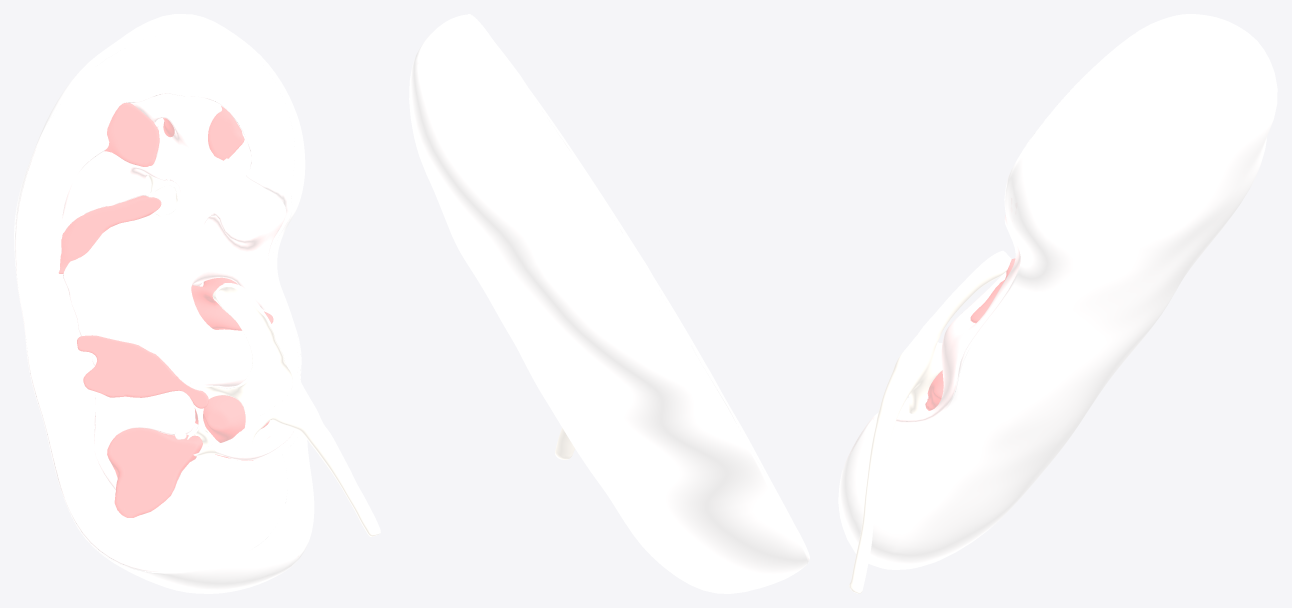
The model's file is VHM_Kidney_R_Bisect_Posterior.glb.
The picture shows the model from 3 angles, left to right: view 1: azimuth 30°, elevation 25°; view 2: azimuth 150°, elevation 25°; view 3: azimuth 270°, elevation 25°; orthographic projection. The views are drawn at different scales.
Parts seen in each view (by area): view 1: VHM_Kidney_R_OuterCortex_Posterior, VHM_Kidney_R_RenalColumns_Posterior, VHM_Kidney_R_Pyramids_Posterior, VHM_Kidney_R_Capsule_Posterior, VHM_Kidney_R_Calyses_Posterior; view 2: VHM_Kidney_R_Capsule_Posterior, VHM_Kidney_R_OuterCortex_Posterior; view 3: VHM_Kidney_R_Capsule_Posterior, VHM_Kidney_R_Calyses_Posterior, VHM_Kidney_R_RenalColumns_Posterior, VHM_Kidney_R_Pyramids_Posterior, VHM_Kidney_R_OuterCortex_Posterior.
Part boxes in pixels (x1,y1,x2,y2): VHM_Kidney_R_OuterCortex_Posterior: (15, 26, 302, 593); VHM_Kidney_R_RenalColumns_Posterior: (60, 94, 298, 490); VHM_Kidney_R_Pyramids_Posterior: (58, 102, 273, 517); VHM_Kidney_R_Capsule_Posterior: (14, 14, 314, 593); VHM_Kidney_R_Calyses_Posterior: (147, 175, 380, 536); VHM_Kidney_R_Capsule_Posterior: (409, 14, 808, 593); VHM_Kidney_R_OuterCortex_Posterior: (417, 22, 809, 560); VHM_Kidney_R_Capsule_Posterior: (838, 14, 1277, 569); VHM_Kidney_R_Calyses_Posterior: (849, 250, 1011, 593); VHM_Kidney_R_RenalColumns_Posterior: (896, 215, 1020, 422); VHM_Kidney_R_Pyramids_Posterior: (925, 258, 1015, 410); VHM_Kidney_R_OuterCortex_Posterior: (839, 35, 1231, 544).
Size of the model in its own units: 0.0781 by 0.1407 by 0.0955.
